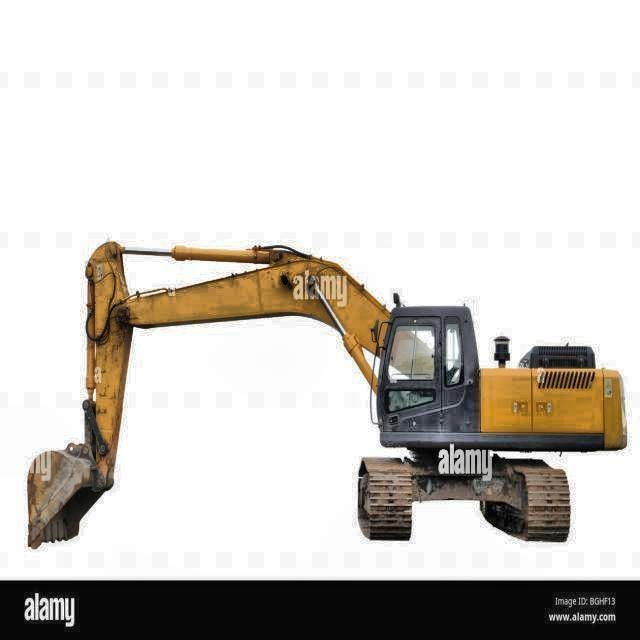excavator: (24, 238, 630, 556)
